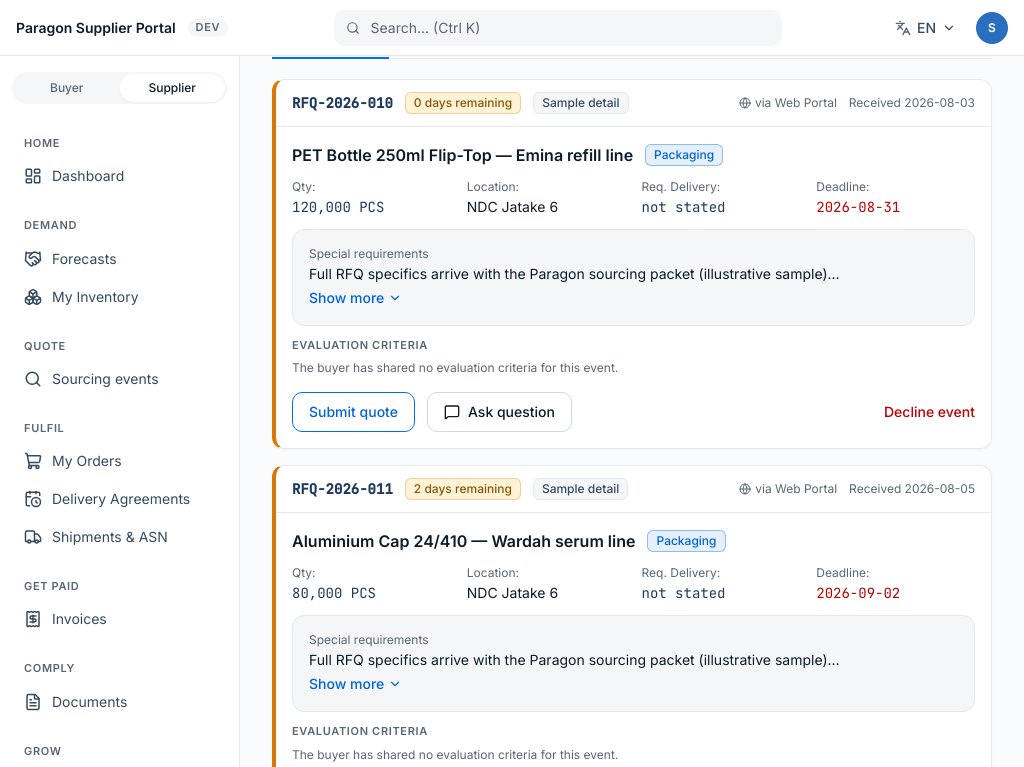
Test: SupplierRFQs — the bid price is read once, and refused out loud › POSITIVE TWIN — a fully-formatted ID price is READ, not eaten
(page scrolled)
Expected: the text "RFQ-2026-010" is shown, [292,93,393,113]
Step 1. Click the button "Submit quote" → (354, 412), box [292,392,415,432]
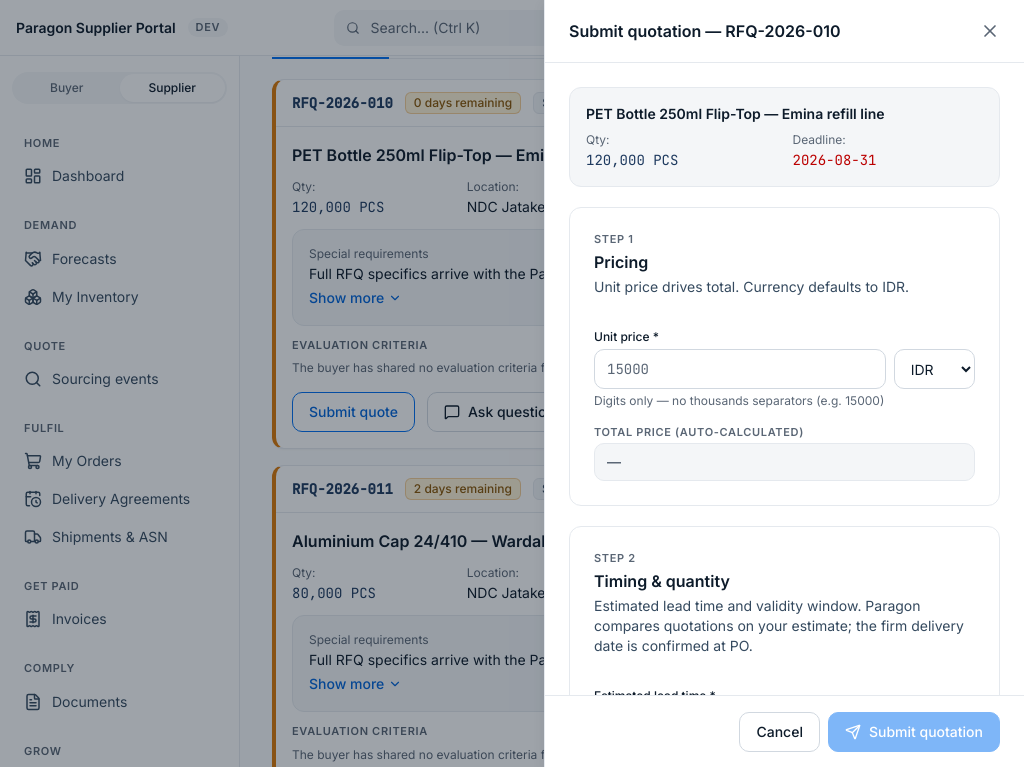
Step 2. Type "15.000,50" into the field labelled "Unit price" → (740, 369), box [594,349,886,389]
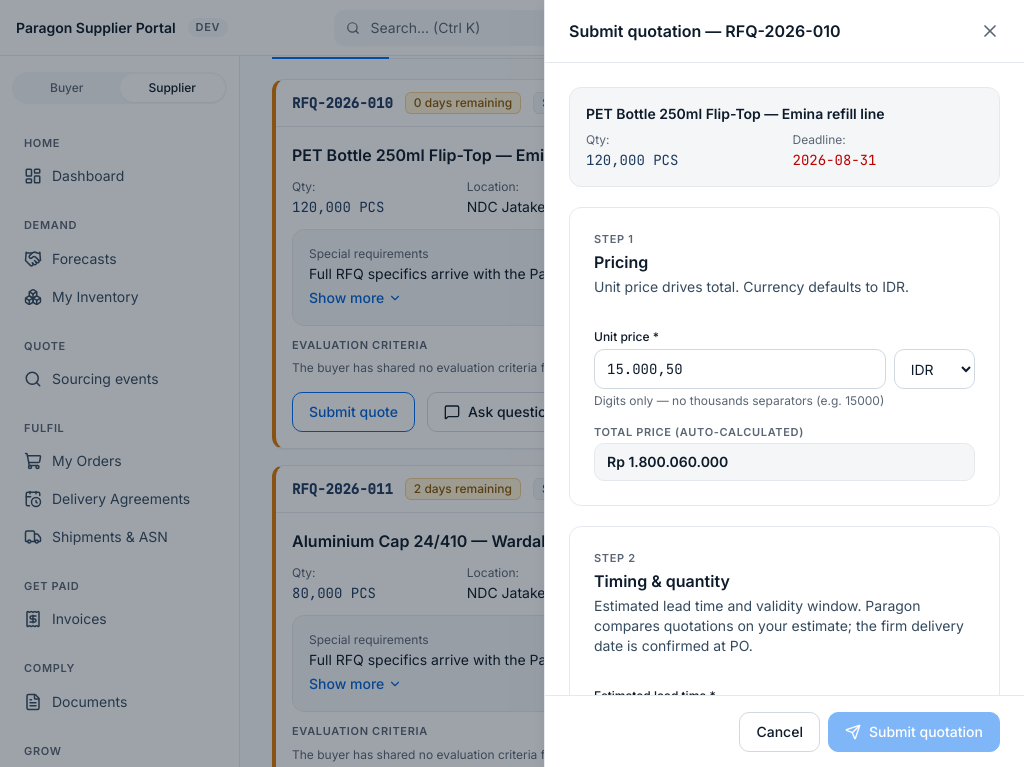
Expected: the text "Rp 1.800.060.000" is shown, [594,443,975,481]
